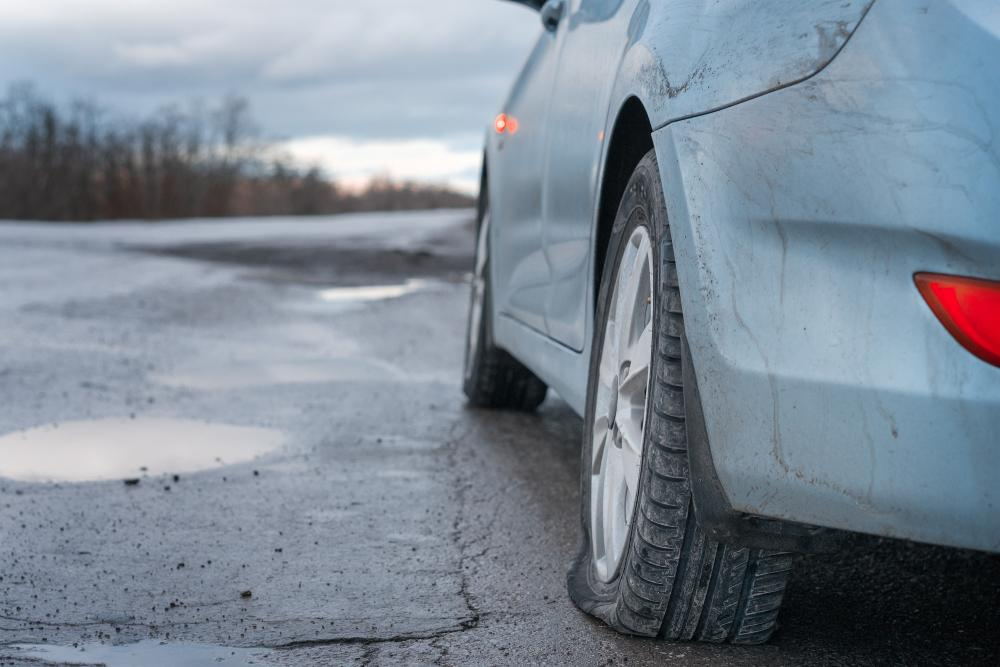tire flat: (565, 152, 797, 646)
